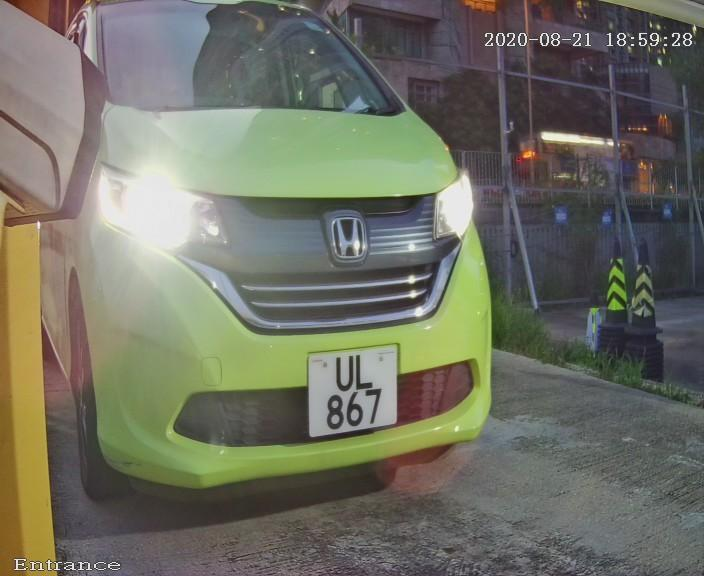Car: (4, 1, 535, 538)
License Plate: (299, 332, 406, 448)
